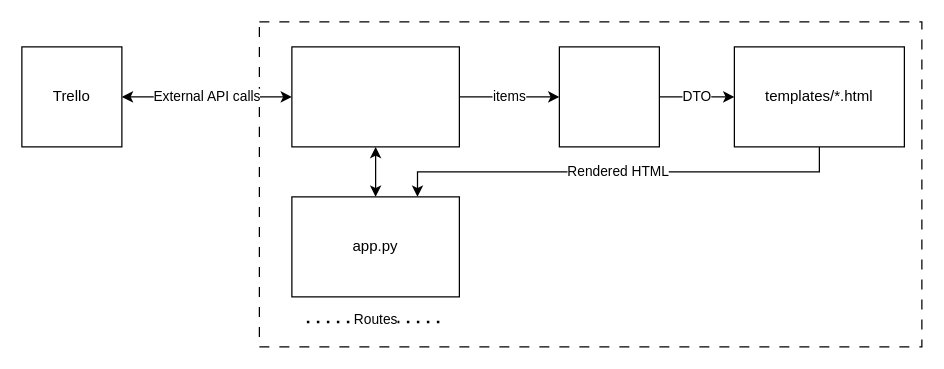
Image size: 944x369. Some labels were removed from this diagram. Here are the shapes that lost their labels. From the top down, the centre of each, then its label:
At (375,96): "trello_items.py".
At (608,96): "ViewModel.py".
